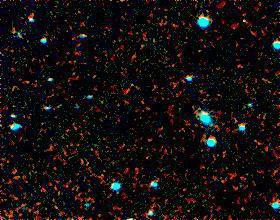star: (202, 109, 232, 139)
